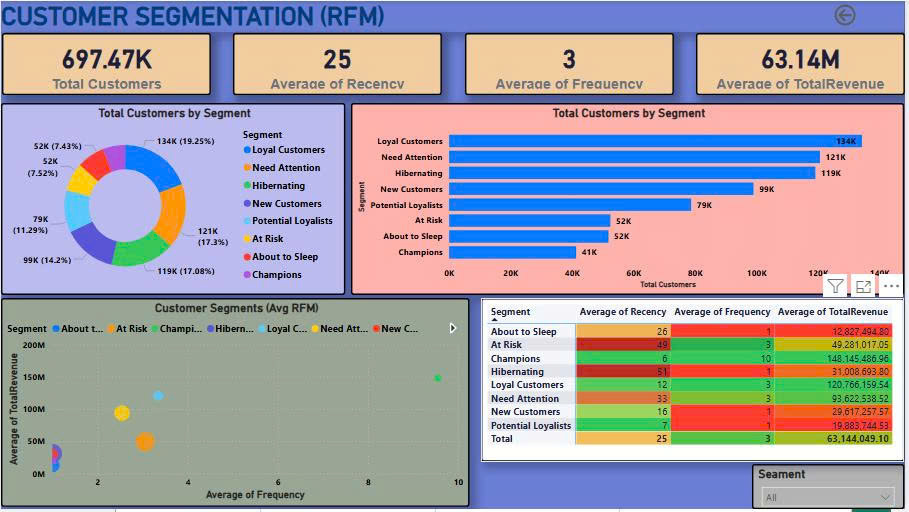

The dashboard page shown, as its layout file describes it:
{"tool":"powerbi","page":{"name":"CUSTOMER SEGMENTATION (RFM)","canvas":[1280,720],"ordinal":3},"visuals":[{"type":"shape","title":"CUSTOMER SEGMENTATION (RFM)","box":[0,0,1280.2,43.9],"z":0},{"type":"card","title":"Total View","fields":{"Values":["rfm_extended.Total Customers"]},"box":[1.5,44.7,296,88],"z":1000},{"type":"card","fields":{"Values":["Avg(rfm_summary.Recency)"]},"box":[329.5,44.7,296,88],"z":2000},{"type":"card","fields":{"Values":["Avg(rfm_summary.Frequency)"]},"box":[657.5,44.7,296,88],"z":3000},{"type":"card","fields":{"Values":["Avg(rfm_summary.TotalRevenue)"]},"box":[985.5,44.7,296,88],"z":4000},{"type":"slicer","title":"Seament","fields":{"Values":["rfm_extended.Segment"]},"box":[1064,656,216,64],"z":5000},{"type":"actionButton","box":[1176,0,104,40],"z":6000},{"type":"donutChart","fields":{"Category":["rfm_extended.Segment_Extended"],"Y":["rfm_extended.Total Customers"]},"box":[0,144,488,272],"z":7000},{"type":"clusteredBarChart","fields":{"Category":["rfm_summary.Segment_Extended"],"Y":["rfm_extended.Total Customers"]},"box":[496,144,784,272],"z":8000},{"type":"pivotTable","fields":{"Rows":["rfm_summary.Segment"],"Values":["Avg(rfm_summary.Recency)","Avg(rfm_summary.Frequency)","Avg(rfm_summary.TotalRevenue)"]},"box":[680.1,421.2,600,232],"z":9000},{"type":"scatterChart","title":"Customer Segments (Avg RFM)","fields":{"X":["rfm_summary.Frequency"],"Y":["rfm_summary.TotalRevenue"],"Size":["Avg(rfm_summary.Recency)"],"Series":["rfm_summary.Segment"]},"box":[0.1,421.2,664,296],"z":10000}]}

Visuals, with their boxes in screenshot pixels (x1, y1, x2, y2), scaled from the page's 1280x720 canvas onto the 909x512 screenshot:
"CUSTOMER SEGMENTATION (RFM)" shape: 0,0,908,31
"Total View" card: 1,32,211,94
card - Avg(rfm_summary.Recency): 234,32,444,94
card - Avg(rfm_summary.Frequency): 467,32,677,94
card - Avg(rfm_summary.TotalRevenue): 700,32,908,94
"Seament" slicer: 756,466,908,511
actionButton: 835,0,908,28
donutChart - rfm_extended.Segment_Extended x rfm_extended.Total Customers: 0,102,347,296
clusteredBarChart - rfm_summary.Segment_Extended x rfm_extended.Total Customers: 352,102,908,296
pivotTable - rfm_summary.Segment x Avg(rfm_summary.Recency): 483,300,908,464
"Customer Segments (Avg RFM)" scatterChart: 0,300,472,510
